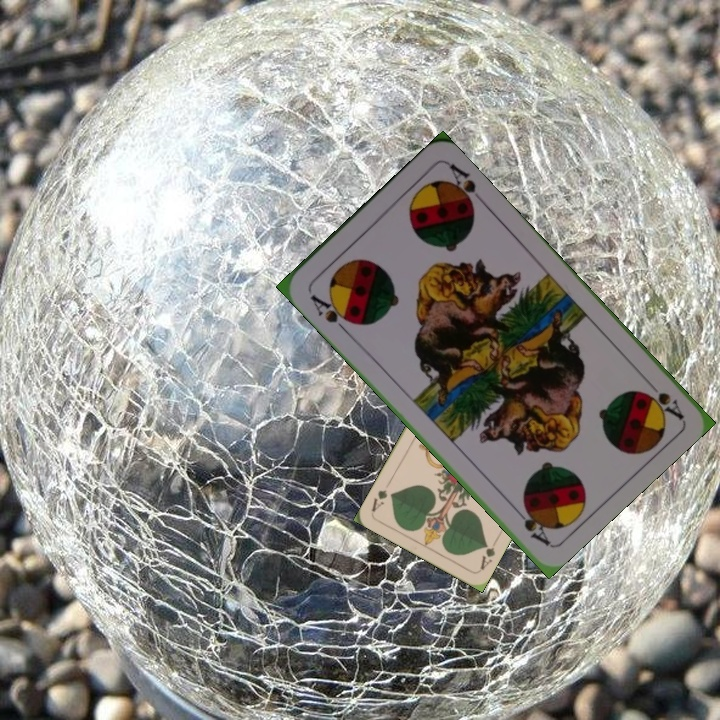GA: (476, 535, 500, 573)
SA: (306, 290, 357, 336), (640, 372, 686, 421)
